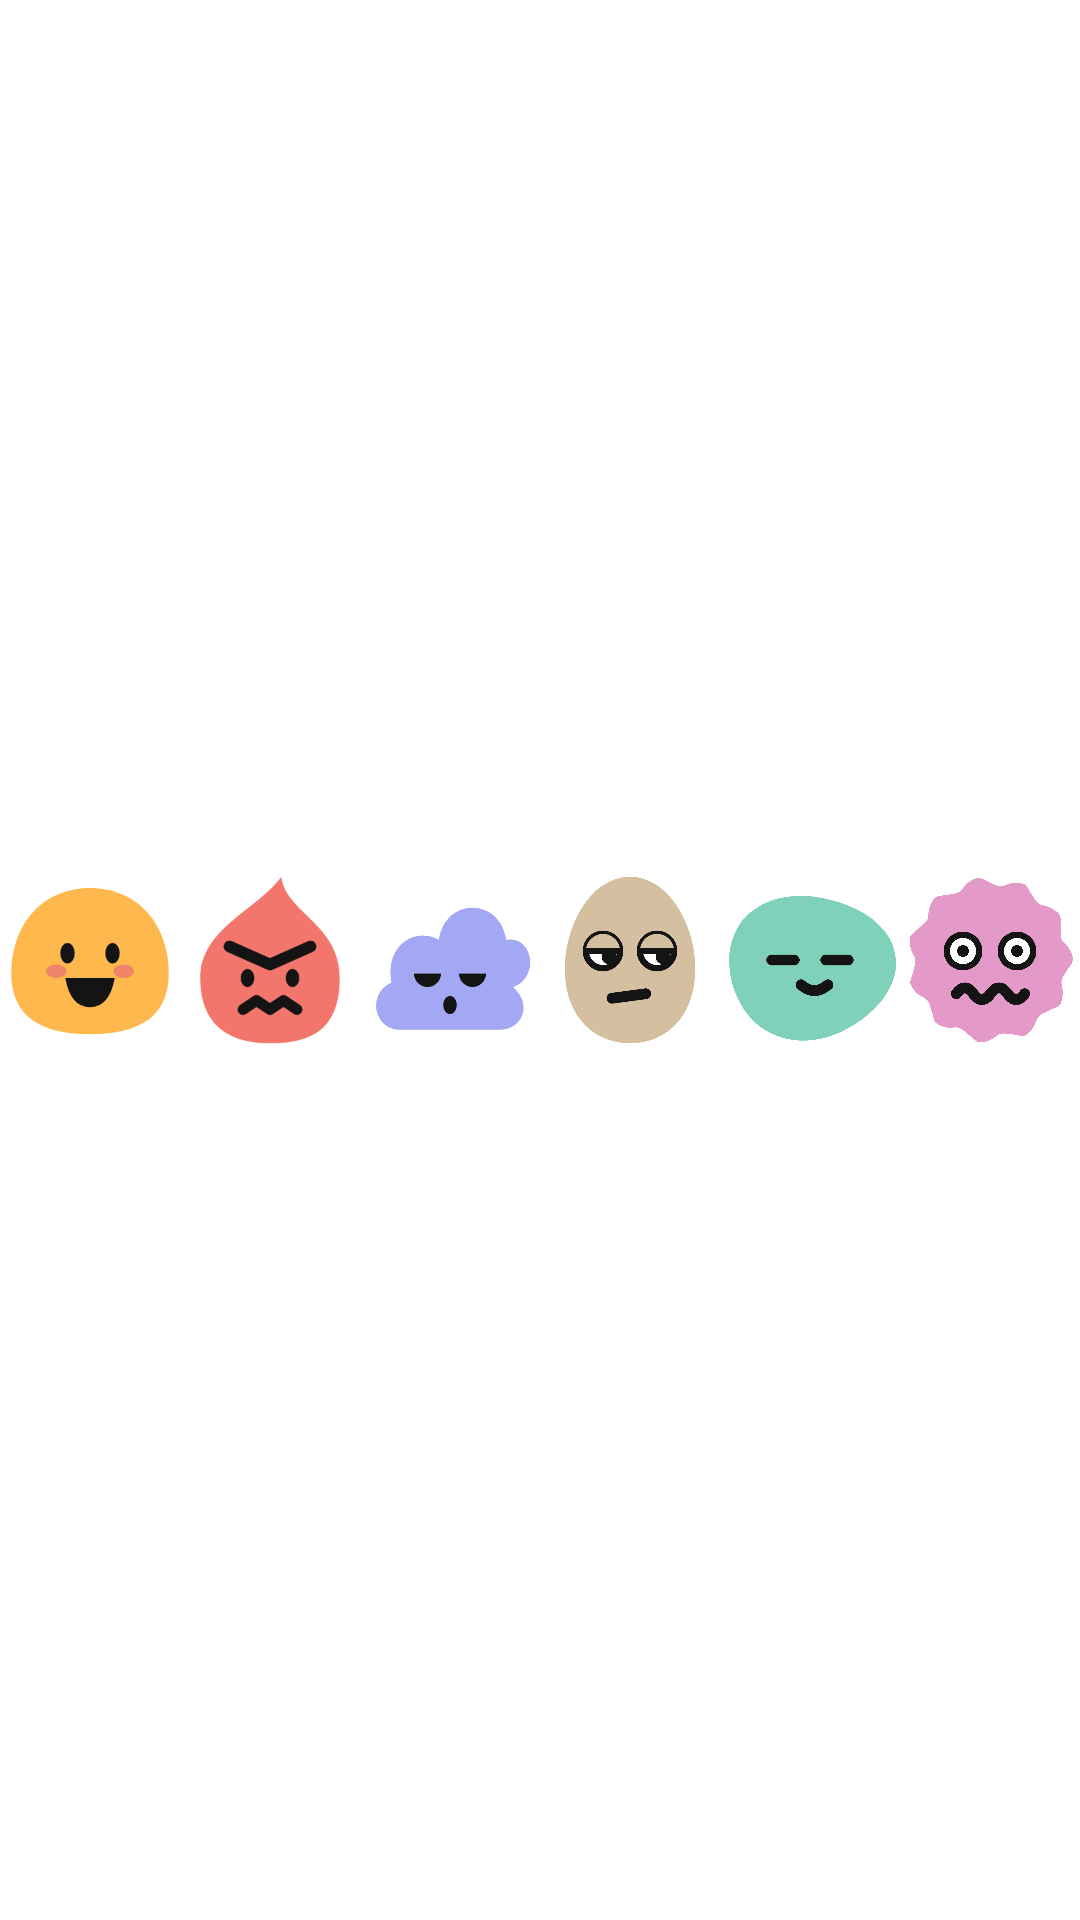

Icons on this 1080px x 1920px Android screen, each with its box as box(x1, y1, x2, y2):
Aburrido: box(565, 877, 695, 1043)
Enojado: box(200, 877, 340, 1044)
Estresado: box(910, 878, 1073, 1042)
Feliz: box(11, 888, 169, 1035)
Somnoliento: box(376, 908, 530, 1030)
Tranquilo: box(729, 896, 896, 1041)
